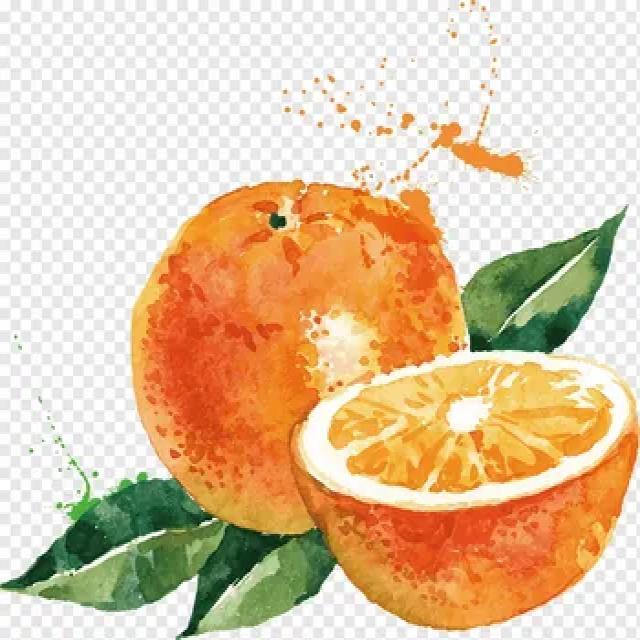orange: (131, 171, 474, 530)
